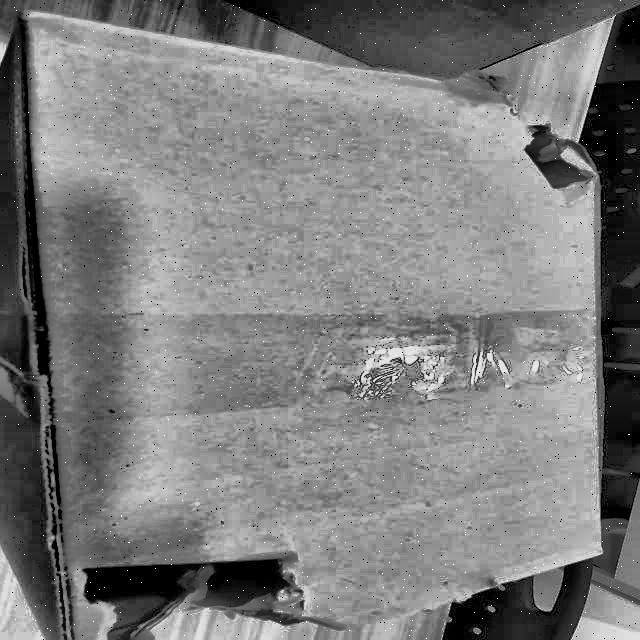box: (1, 6, 609, 639)
hole: (63, 546, 312, 640), (494, 113, 598, 193)
